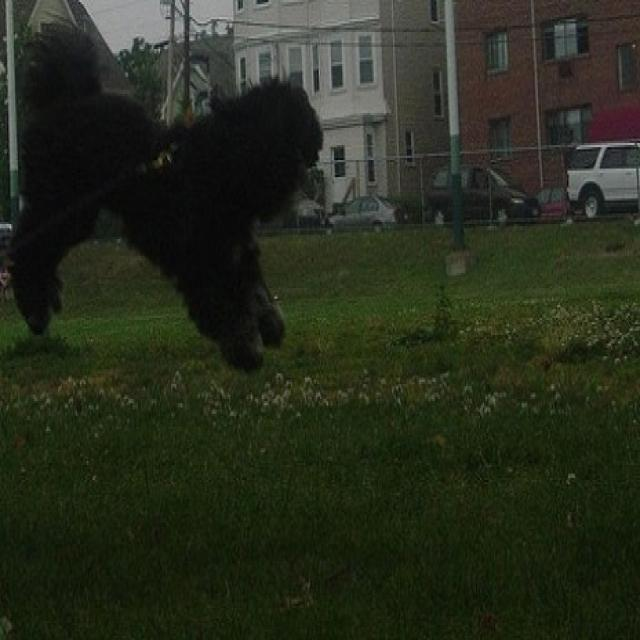Dog: (8, 26, 394, 354)
